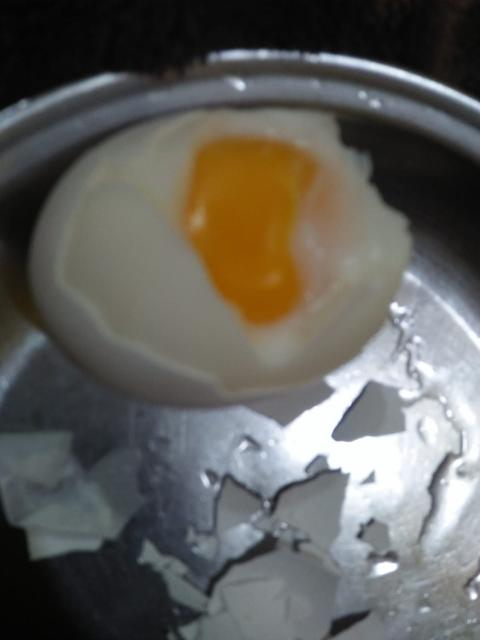Roto: (28, 106, 413, 407)
